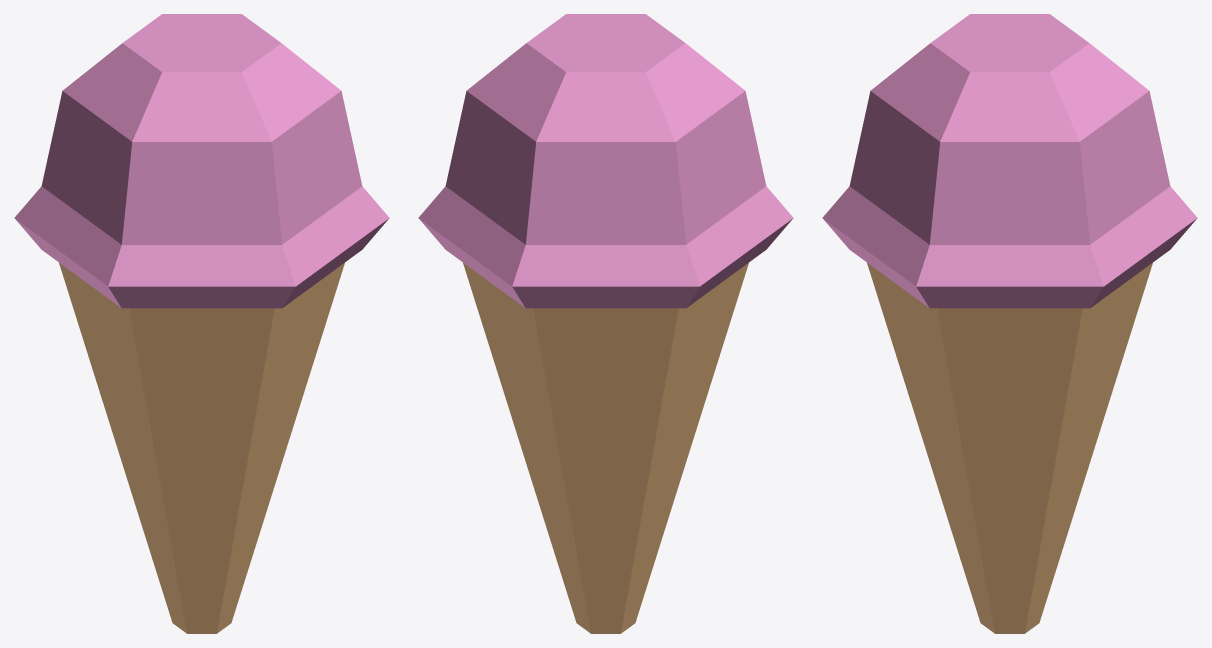
The model's file is iceCream.fbx.
3 views of the same model, side by side, from view 1: azimuth 30°, elevation 25°; view 2: azimuth 150°, elevation 25°; view 3: azimuth 270°, elevation 25° (orthographic).
Parts seen in each view (by area): view 1: iceCream; view 2: iceCream; view 3: iceCream.
Part boxes in pixels (bbox=[...]): iceCream: bbox=[14, 14, 389, 633]; iceCream: bbox=[418, 14, 793, 633]; iceCream: bbox=[822, 14, 1197, 633].
Bounding box in the file's own units: 2.35 × 4.63 × 2.72.
